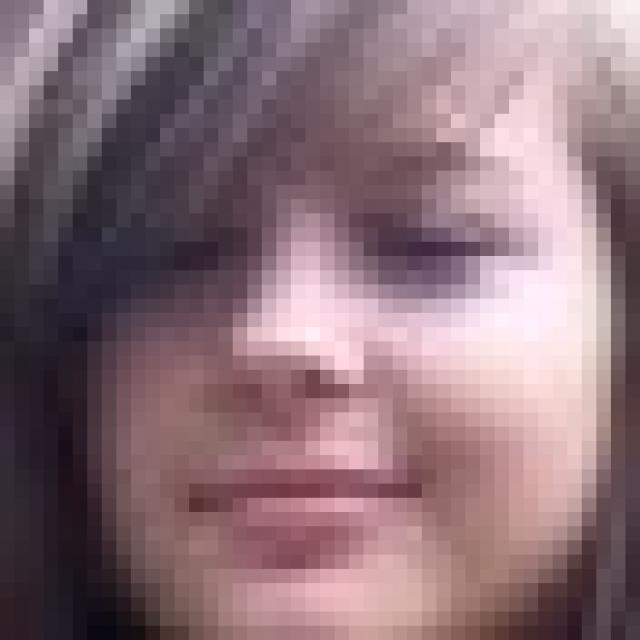Eyeclosed: (358, 212, 501, 279), (152, 227, 227, 276)
